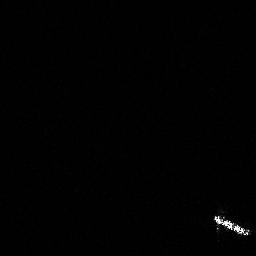ship: (210, 211, 252, 238)
